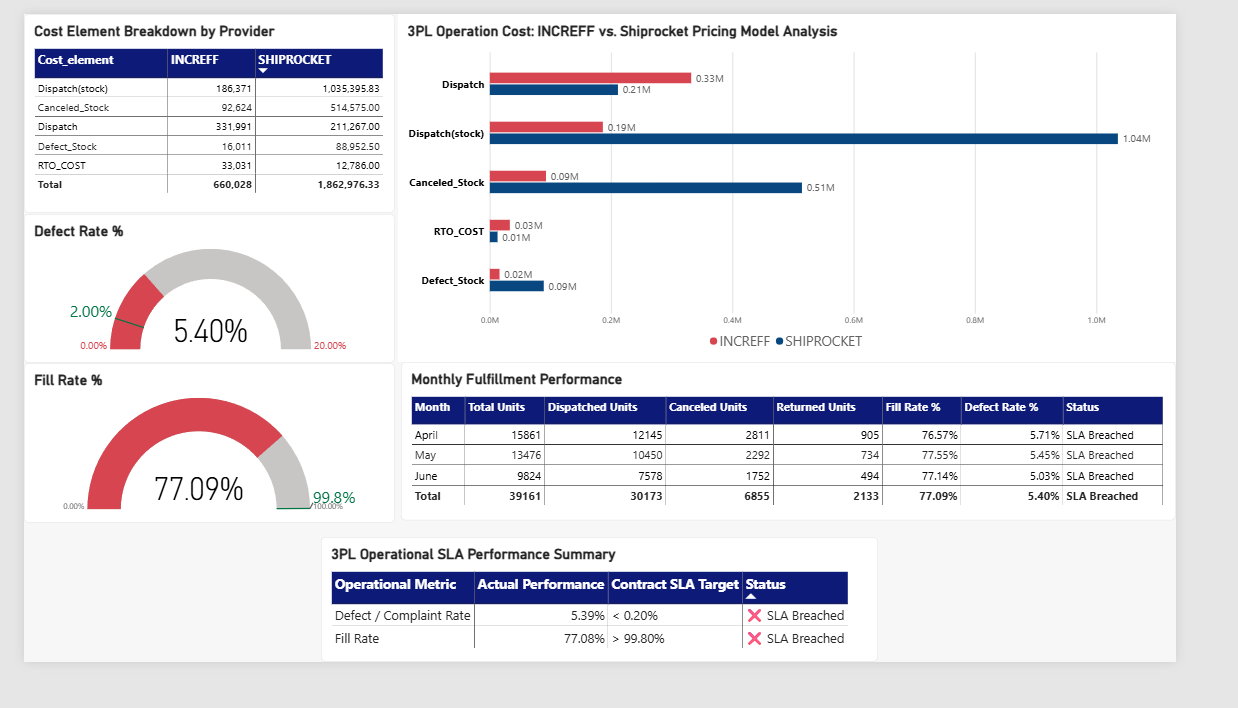

This screenshot's page, from the dashboard's own definition file:
{"tool":"powerbi","page":{"name":"Page 1","canvas":[1920,1080],"ordinal":0},"visuals":[{"type":"tableEx","title":"Cost Element Breakdown by Provider","fields":{"Values":["Shiprocket_vs_INCREFF_Audit.Cost_element","Sum(Shiprocket_vs_INCREFF_Audit.INCREFF)","Sum(Shiprocket_vs_INCREFF_Audit.SHIPROCKET)"]},"box":[0,0,617.5,331.2],"z":0},{"type":"clusteredBarChart","title":"3PL Operation Cost: INCREFF vs. Shiprocket Pricing Model Analysis","fields":{"Category":["Shiprocket_vs_INCREFF_Audit.Cost_element"],"Y":["Sum(Shiprocket_vs_INCREFF_Audit.INCREFF)","Sum(Shiprocket_vs_INCREFF_Audit.SHIPROCKET)"]},"box":[622.9,0,1297.1,580],"z":1000},{"type":"tableEx","title":"3PL Operational SLA Performance Summary","fields":{"Values":["Table (3).Operational Metric","Table (3).Actual Performance","Table (3).Contract SLA Target","Table (3).Status"]},"box":[495,871.7,928.3,208.3],"z":3000},{"type":"gauge","fields":{"Y":["merchant.Fill Rate %"]},"box":[0,581.1,617.8,265.6],"z":4000},{"type":"gauge","fields":{"Y":["Table 1 (Sheet1).defect"]},"box":[0,332.9,617.5,247.5],"z":5000},{"type":"tableEx","title":"Monthly Fulfillment Performance","fields":{"Values":["Orders.Month","Orders.Total Units","Orders.Dispatched Units","Orders.Canceled Units","Orders.Returned Units","Orders.Fill Rate %","Orders.Defect Rate %","Orders.Status","Sum(Orders.Index)"]},"box":[628.3,580,1291.4,264.3],"z":6000}]}

Visuals, with their boxes in screenshot pixels (x1, y1, x2, y2), scaled from the page's 1920x1080 canvas onto the 1238x708 screenshot:
"Cost Element Breakdown by Provider" tableEx: 0,0,398,217
"3PL Operation Cost: INCREFF vs. Shiprocket Pricing Model Analysis" clusteredBarChart: 402,0,1237,380
"3PL Operational SLA Performance Summary" tableEx: 319,571,918,707
gauge - merchant.Fill Rate %: 0,381,398,555
gauge - Table 1 (Sheet1).defect: 0,218,398,380
"Monthly Fulfillment Performance" tableEx: 405,380,1237,553
